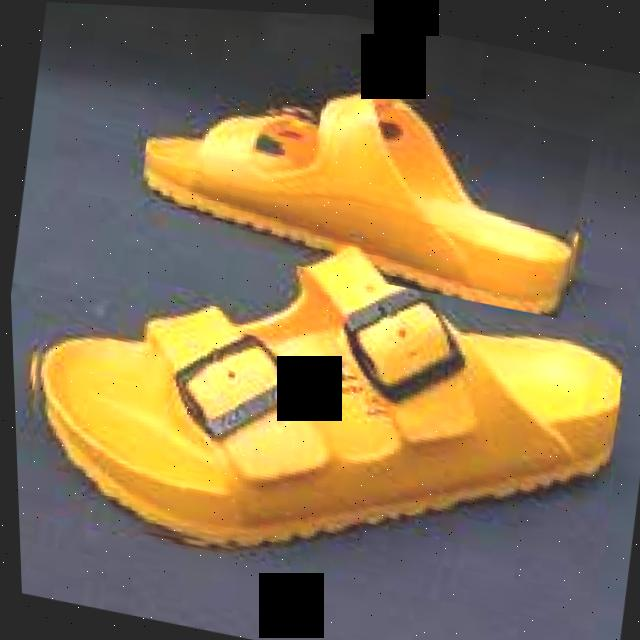shoe: (5, 172, 639, 621), (127, 32, 599, 317)
